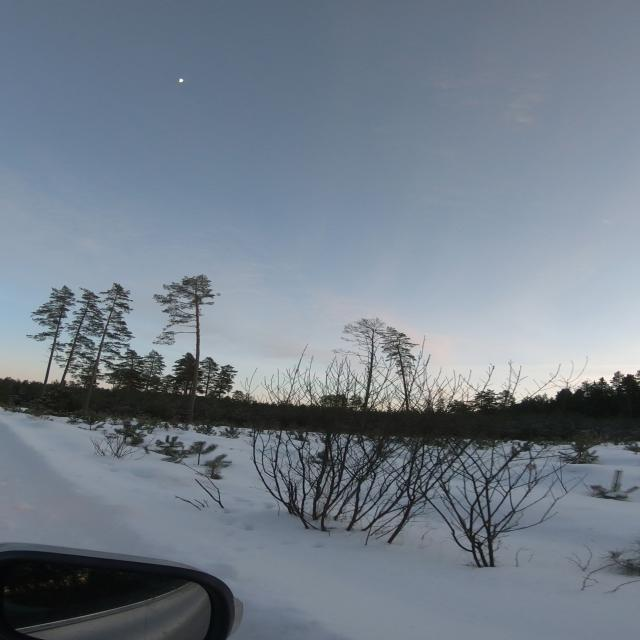trees: (154, 274, 219, 422), (336, 318, 387, 412), (83, 306, 116, 409), (382, 327, 417, 411), (58, 314, 86, 389), (42, 319, 61, 385)
